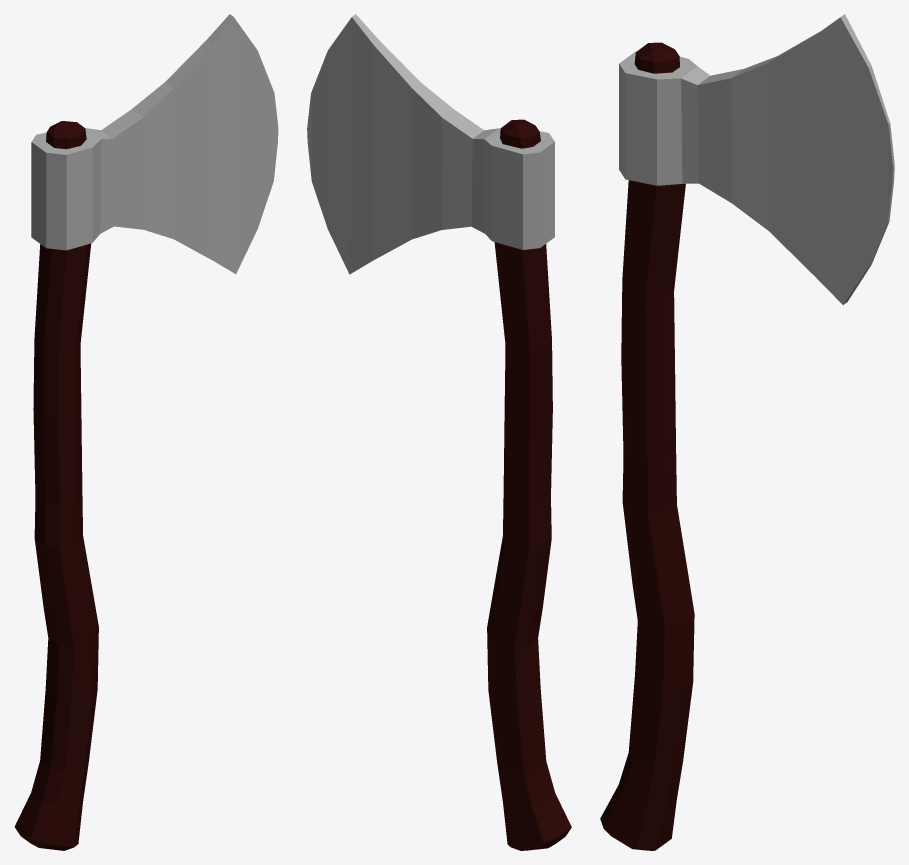
File: Machado - Comum.fbx
The picture shows the model from 3 angles, left to right: view 1: azimuth 30°, elevation 25°; view 2: azimuth 150°, elevation 25°; view 3: azimuth 330°, elevation 25°; orthographic projection. The views are drawn at different scales.
Parts seen in each view (by area): view 1: MachadoComum; view 2: MachadoComum; view 3: MachadoComum.
Boxes of the visible parts, <box> form: MachadoComum: <box>14,14,278,850</box>; MachadoComum: <box>307,14,571,850</box>; MachadoComum: <box>600,14,894,850</box>.
Size of the model in its own units: 36.64 by 108 by 7.06.
